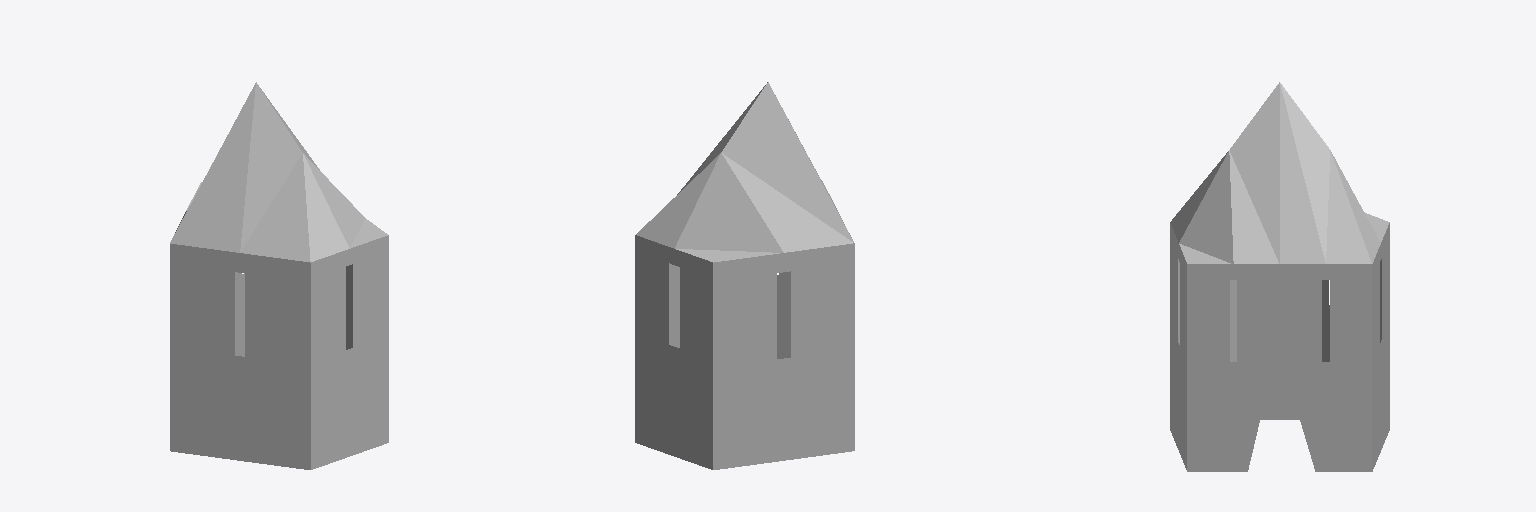
Rendered from side.room.obj.
The picture shows the model from 3 angles: view 1: azimuth 30°, elevation 25°; view 2: azimuth 150°, elevation 25°; view 3: azimuth 270°, elevation 25°; orthographic projection.
Visible parts, largest first — view 1: Plane.002; view 2: Plane.002; view 3: Plane.002.
Part boxes in pixels (left/top/right/bottom): Plane.002: left=170, top=82, right=388, bottom=469; Plane.002: left=635, top=82, right=854, bottom=469; Plane.002: left=1170, top=82, right=1389, bottom=471.
Size of the model in its own units: 2.78 by 5.36 by 3.06.